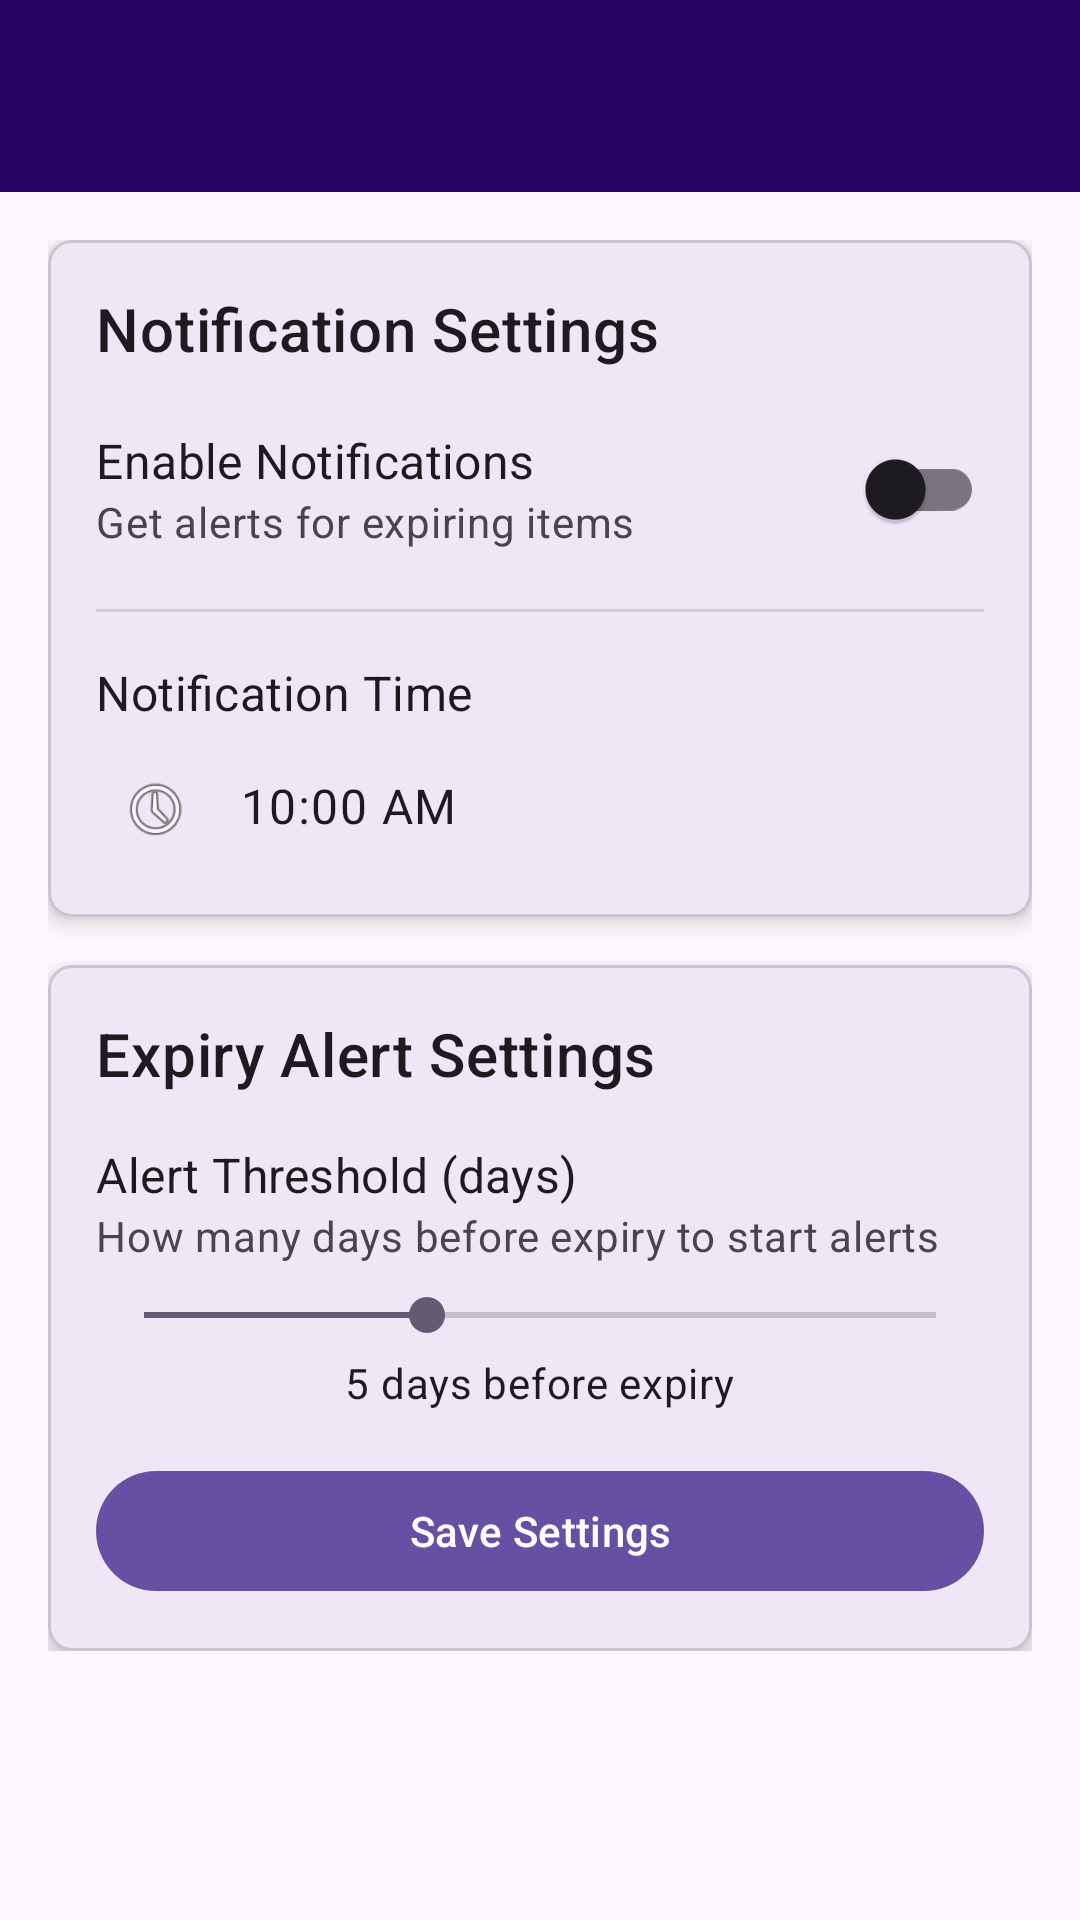

Icon bounding boxes for this 1080×1920 phone screenshot, format (x1, y1, x2, y2):
recent history: (129, 783, 182, 835)
